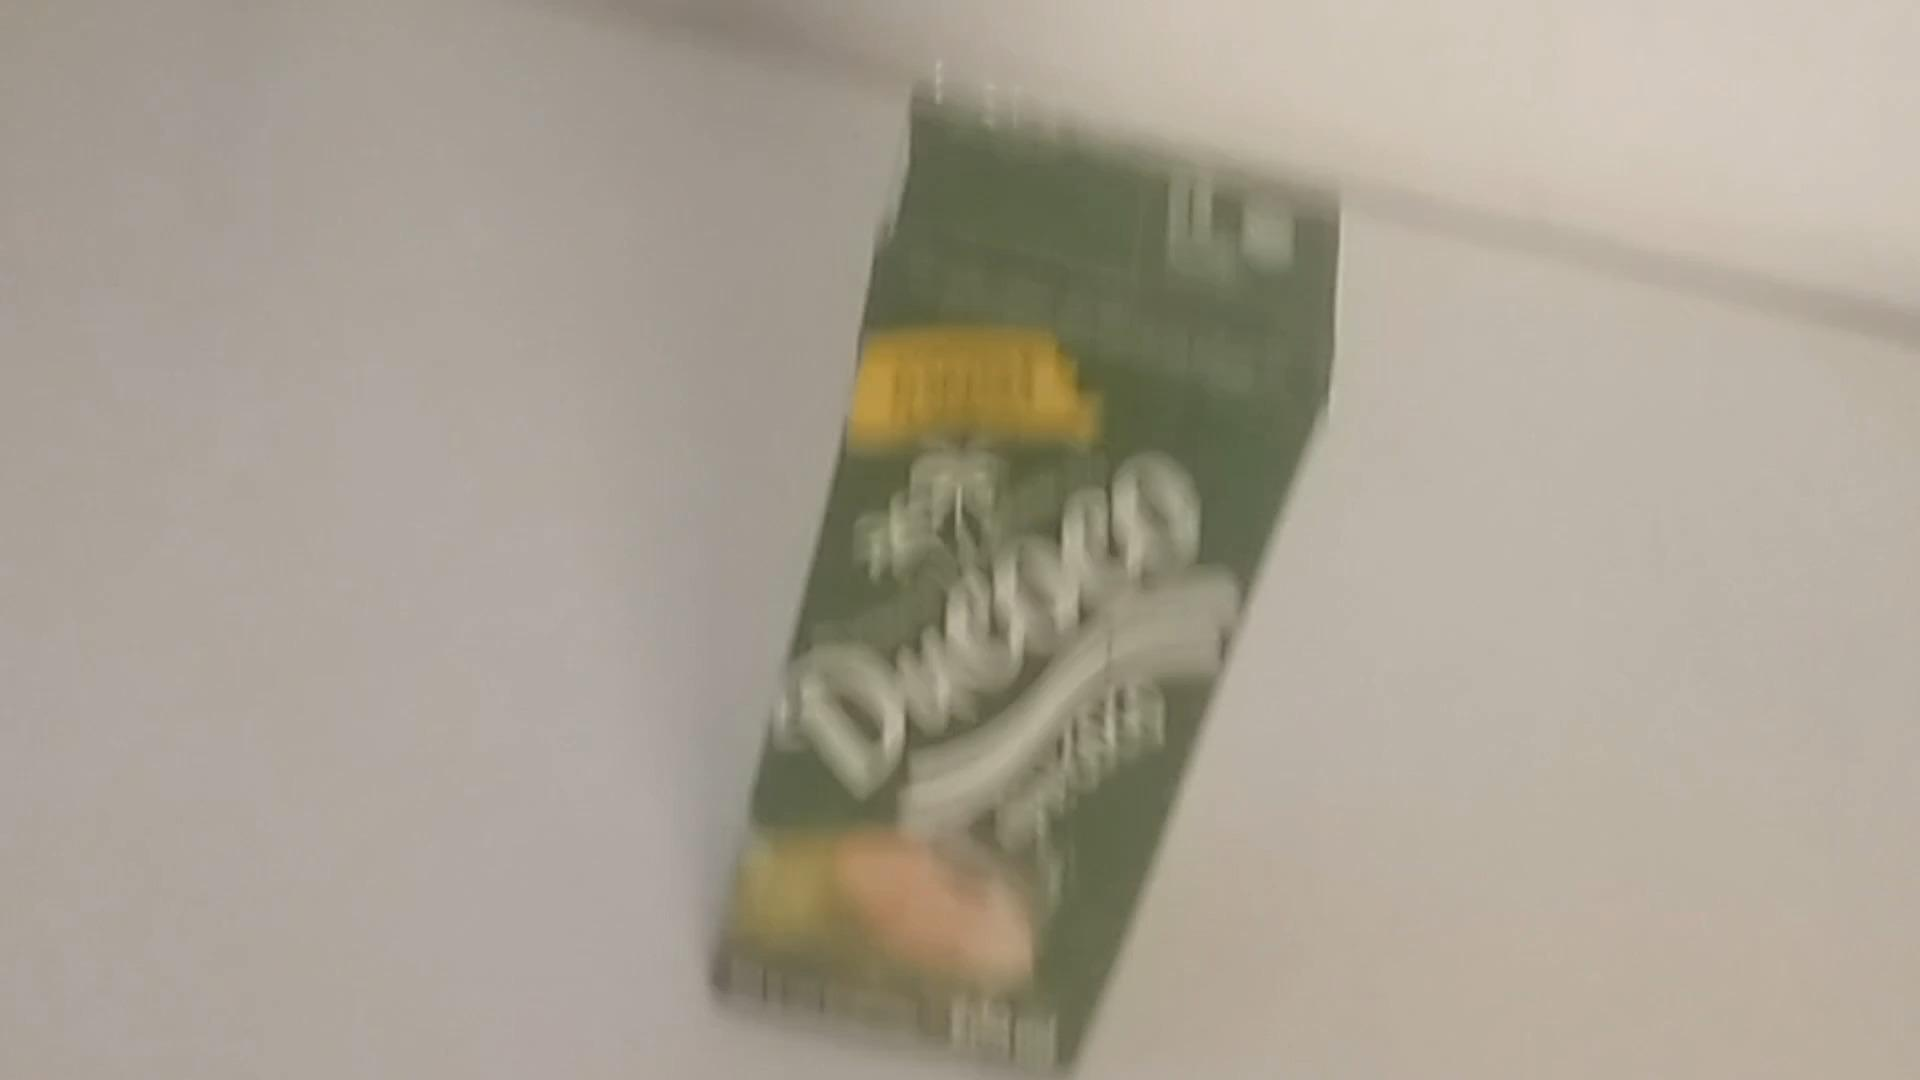coco: (708, 90, 1337, 1072)
